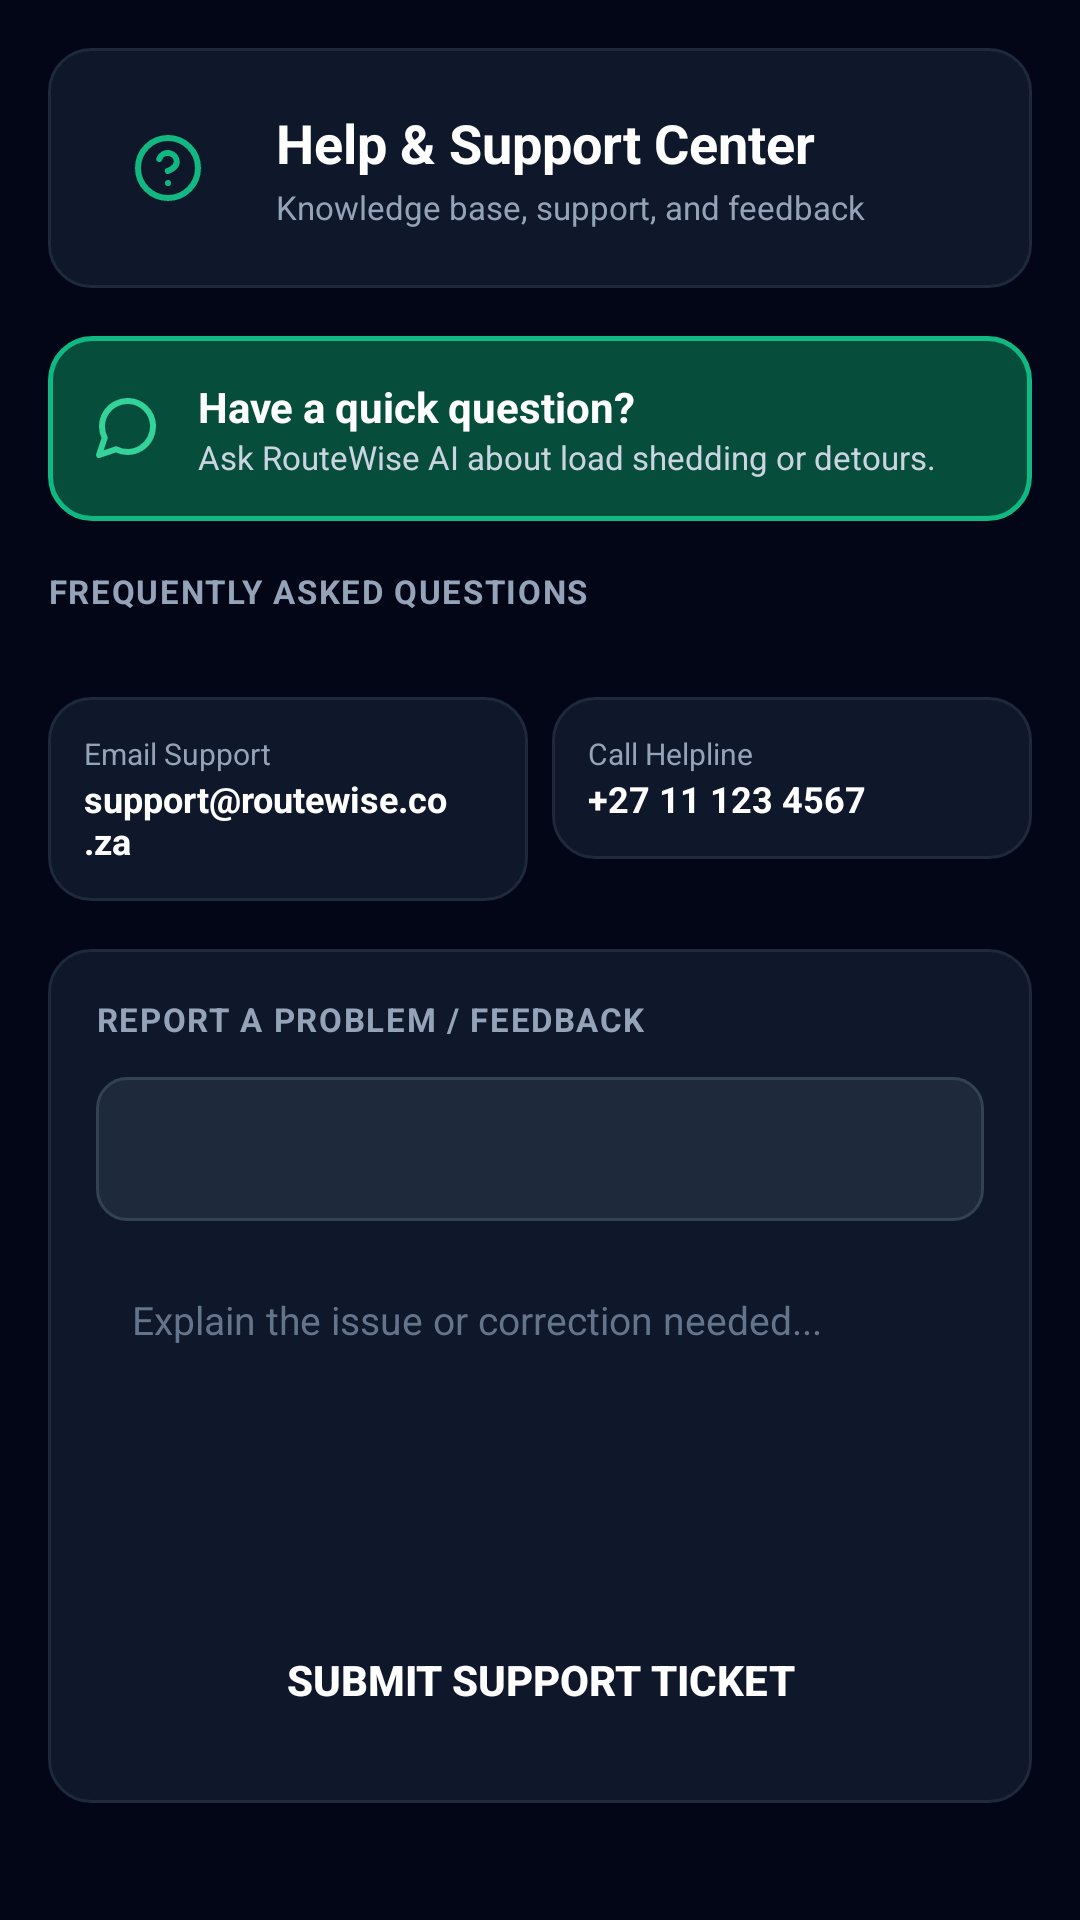

Where to tap for icons on this 1080 x 1920 app screen, as (x,y):
chat: (126,428)
